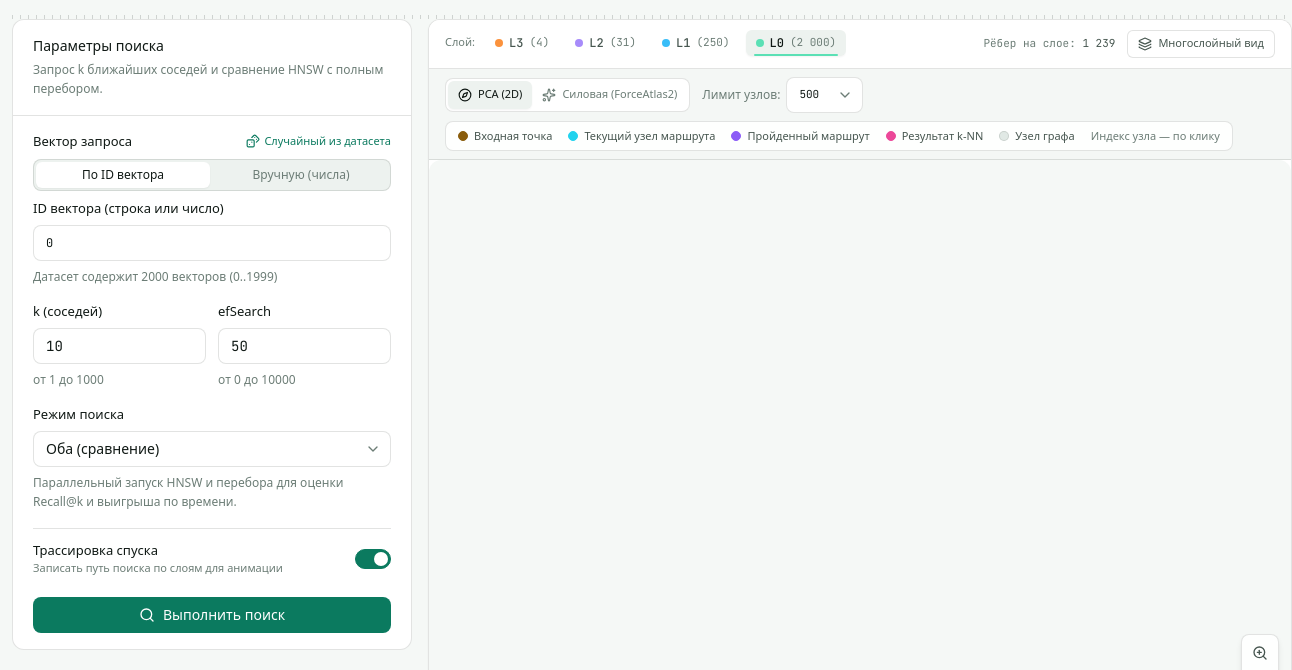
SearchPage › submits search and renders results table with comparison
Click the button "Выполнить поиск". click: x=212, y=615
box: [33,597,391,633]
(page scrolled)
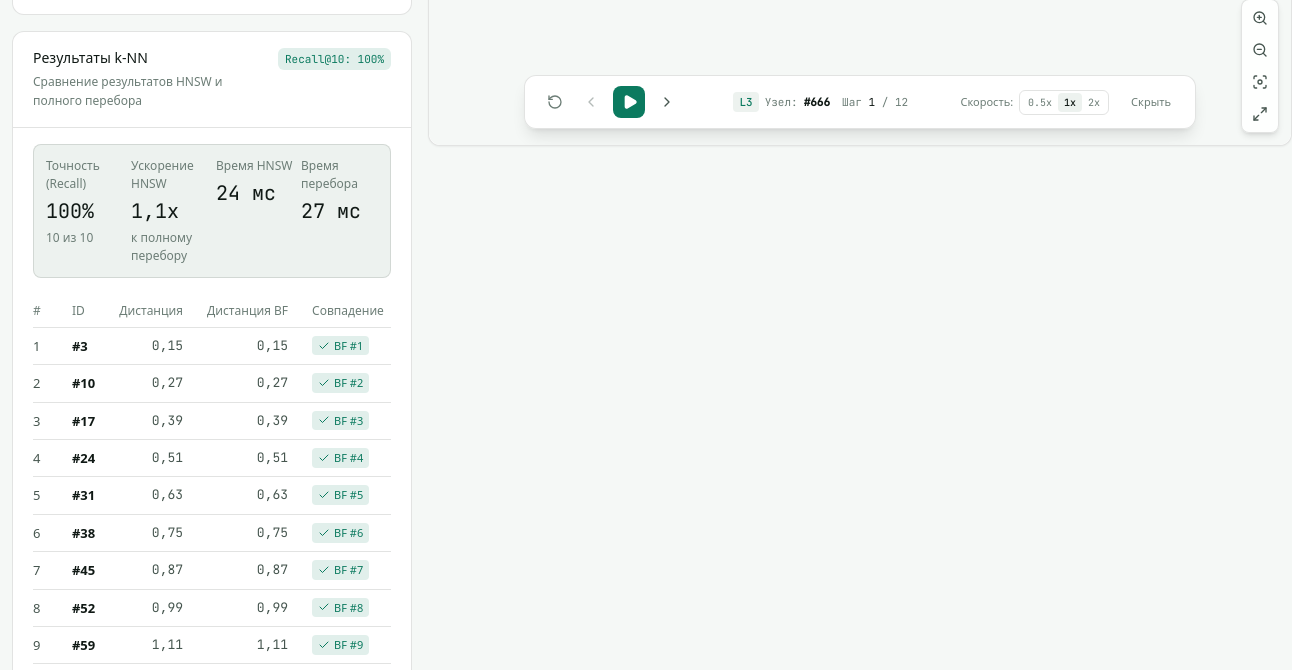
expect the heading "Результаты k-NN" is shown: met, box [33,48,148,67]
expect the text "Точность (Recall)" is shown: met, box [46,157,100,192]
expect the text "Ускорение HNSW" is shown: met, box [131,157,194,192]
